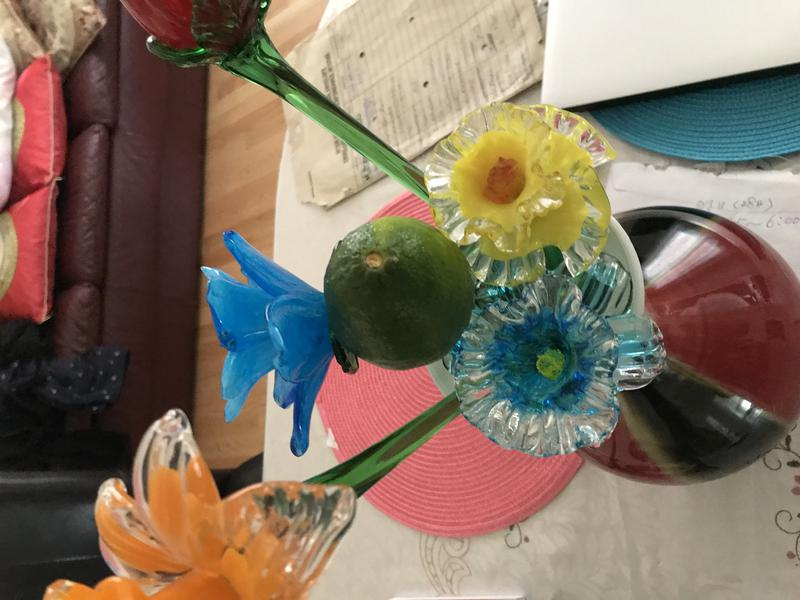lime: (321, 218, 483, 378)
